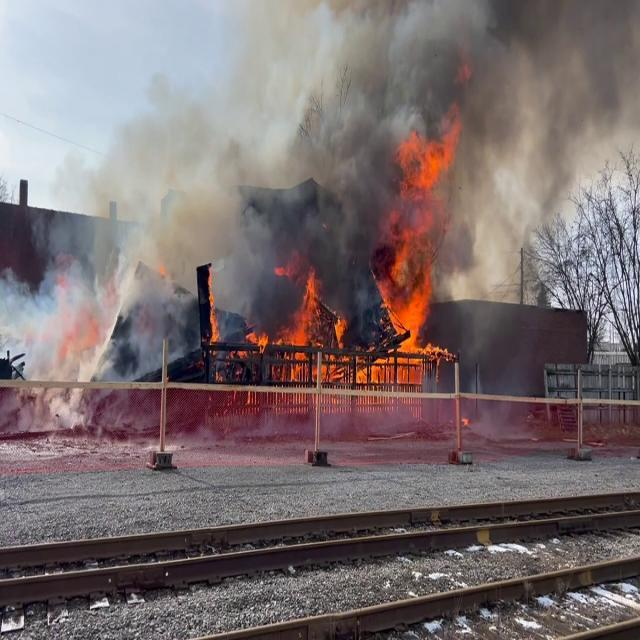Fire: (373, 125, 460, 358), (276, 256, 356, 380)
Smoke: (170, 1, 638, 292), (2, 112, 206, 410)
